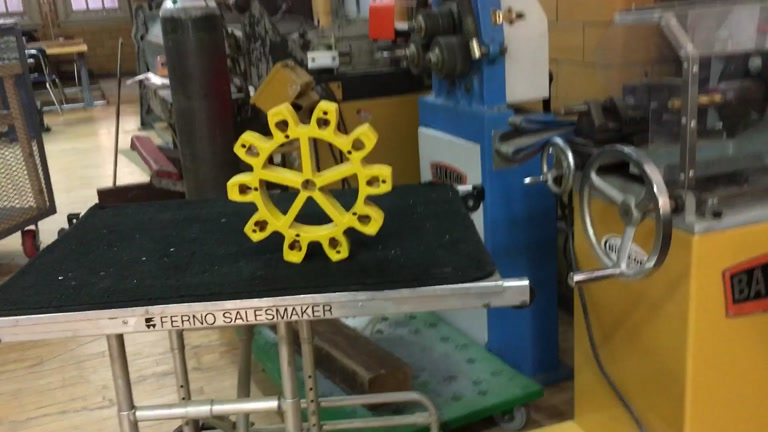gear: (225, 99, 393, 265)
